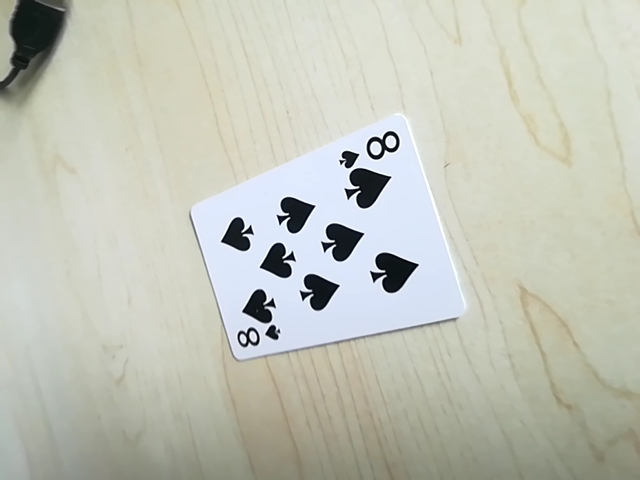ht 8: (335, 125, 408, 164), (226, 319, 283, 356)
